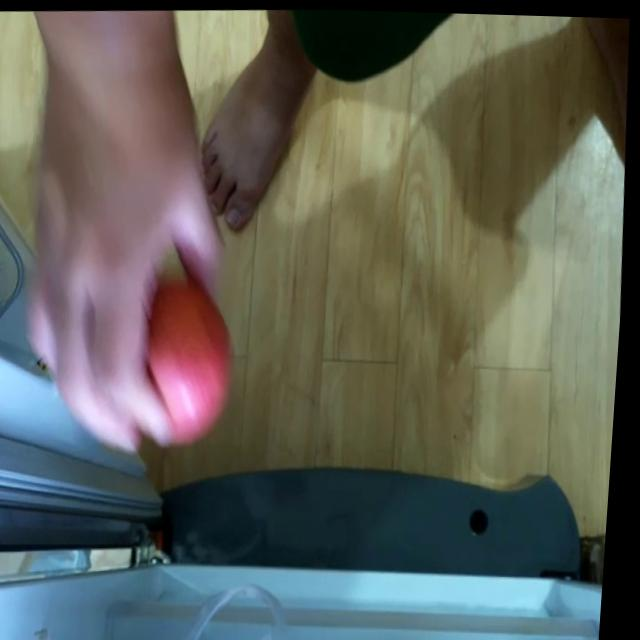apple: (137, 268, 245, 439)
